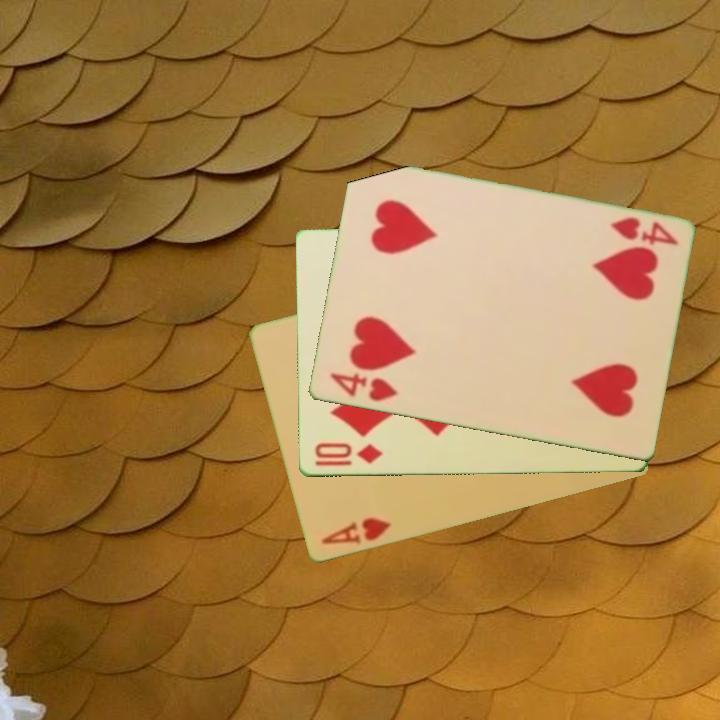10d: (311, 439, 385, 469)
4h: (606, 213, 681, 249), (326, 369, 400, 405)
Ah: (317, 514, 394, 548)
